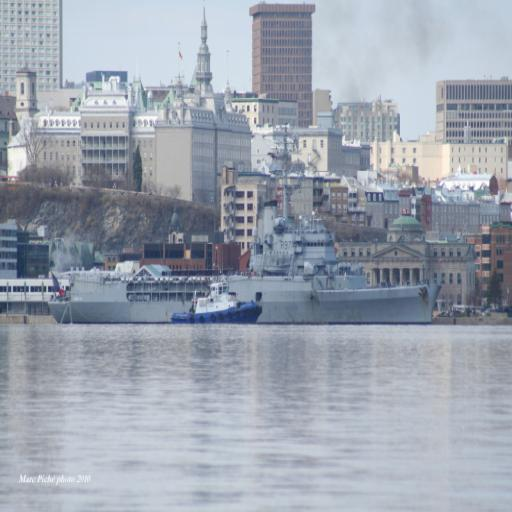Portanaves: (36, 117, 458, 329)
